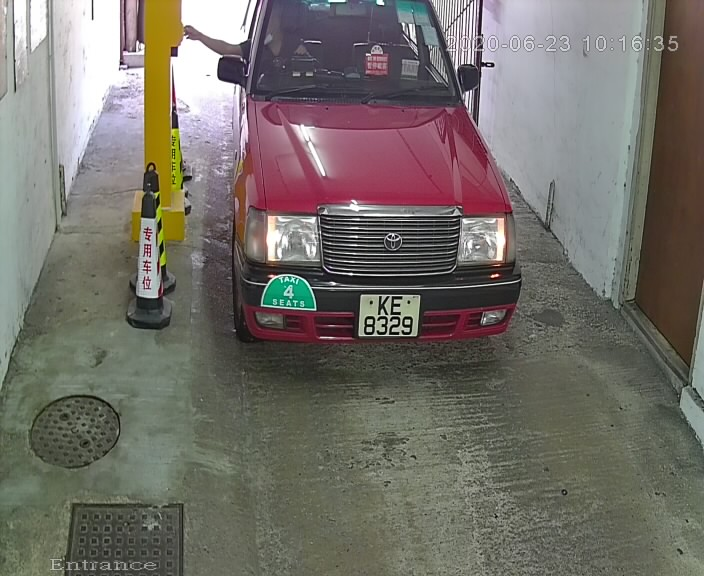taxi: (202, 1, 552, 366)
taxi_mark: (256, 260, 335, 321)
